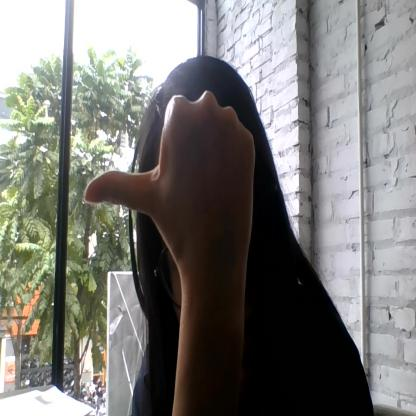right: (83, 91, 255, 239)
